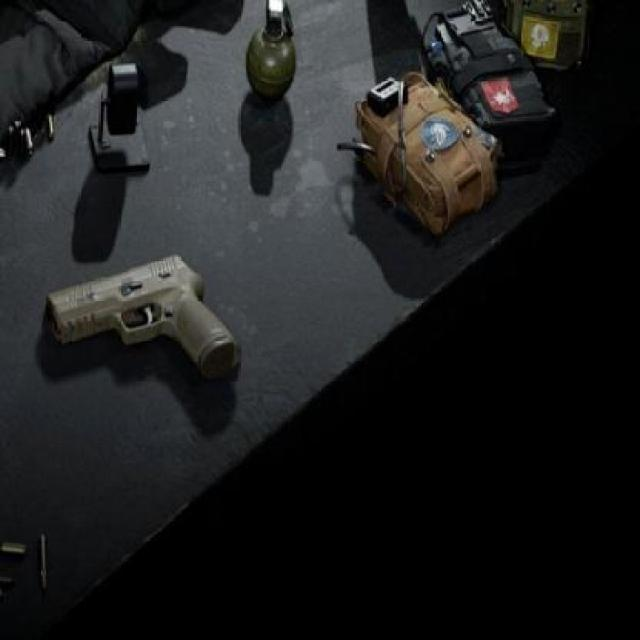Grenade: (244, 0, 298, 100)
Pistol: (45, 256, 244, 382)
